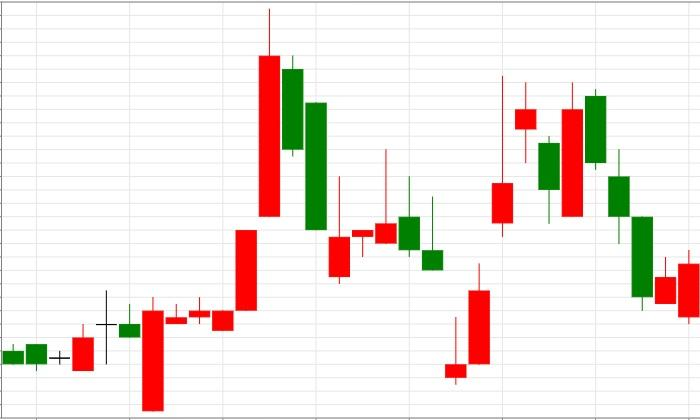three_black_crows_fall: (538, 82, 654, 311)
